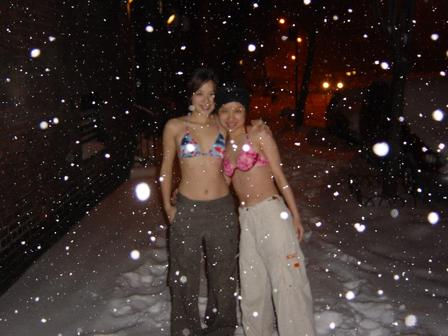without_mask: (185, 75, 220, 118), (218, 99, 251, 136)
